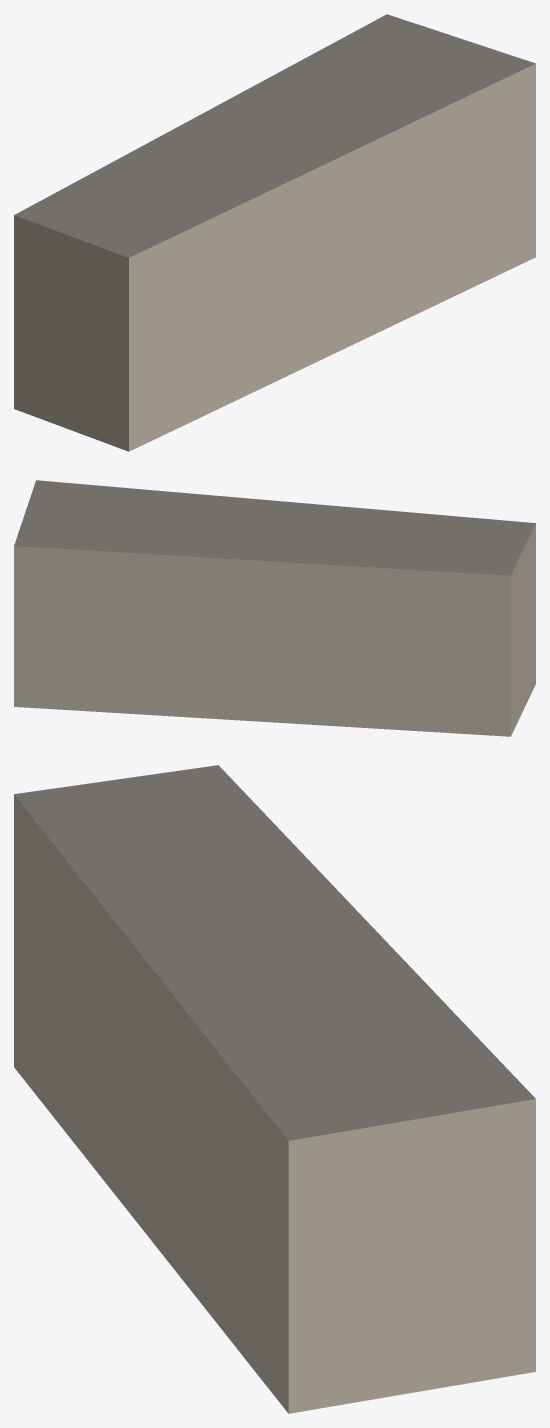
3 renders of one model, top to bottom at view 1: azimuth 30°, elevation 25°; view 2: azimuth 150°, elevation 25°; view 3: azimuth 270°, elevation 25°, orthographic. The views are drawn at different scales.
Parts seen in each view (by area): view 1: HP-w505661359; view 2: HP-w505661359; view 3: HP-w505661359.
Part boxes in pixels (<box>): HP-w505661359: <box>14,14,535,451</box>; HP-w505661359: <box>14,480,535,736</box>; HP-w505661359: <box>14,765,535,1413</box>.
Bounding box in the file's own units: 35.44 × 12 × 20.8.
